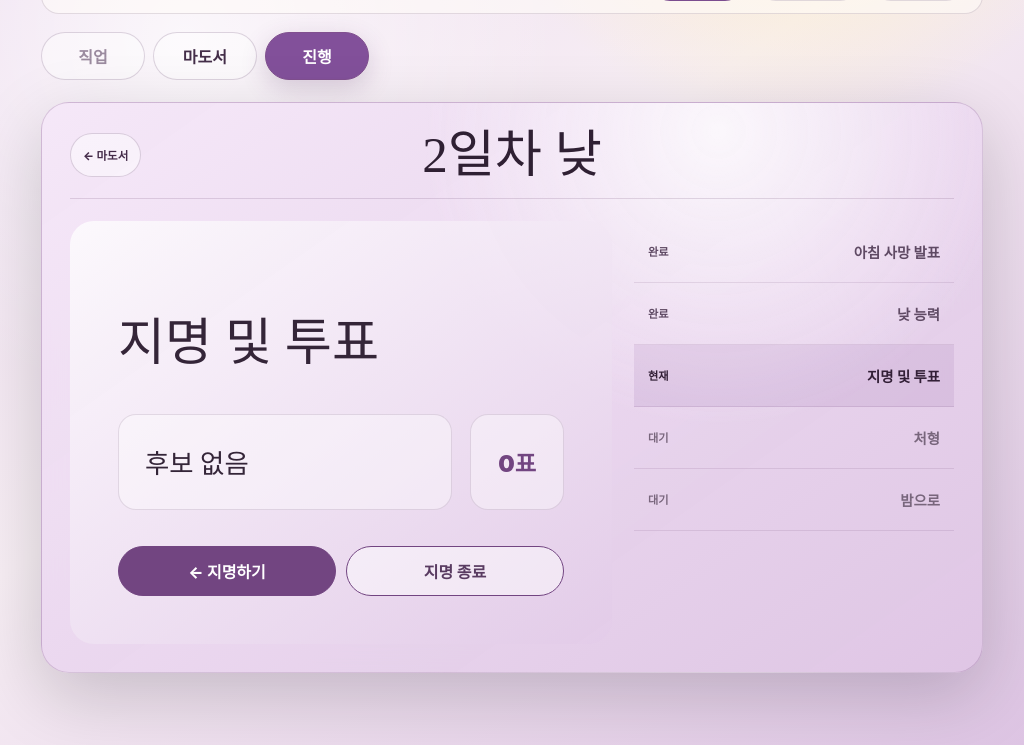
Test: reduces the execution phase to target and confirmation
This screenshot has width=1024, height=745.
(page scrolled)
Click the button "지명 종료" at (455, 571), box 346,546 -> 564,596
(page scrolled)
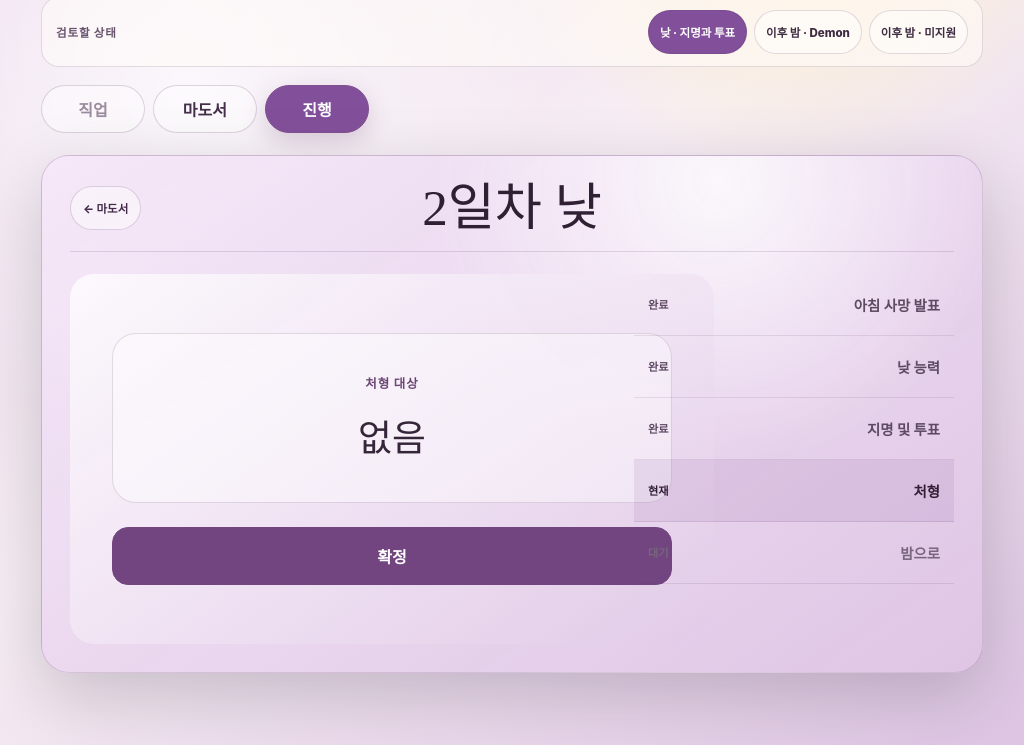
Expected: the text "없음" is shown, 358,408 -> 426,462
Result: the text "처형 대상" is shown at 365,376 -> 419,391
Result: the button "확정" is shown at 112,527 -> 672,585
